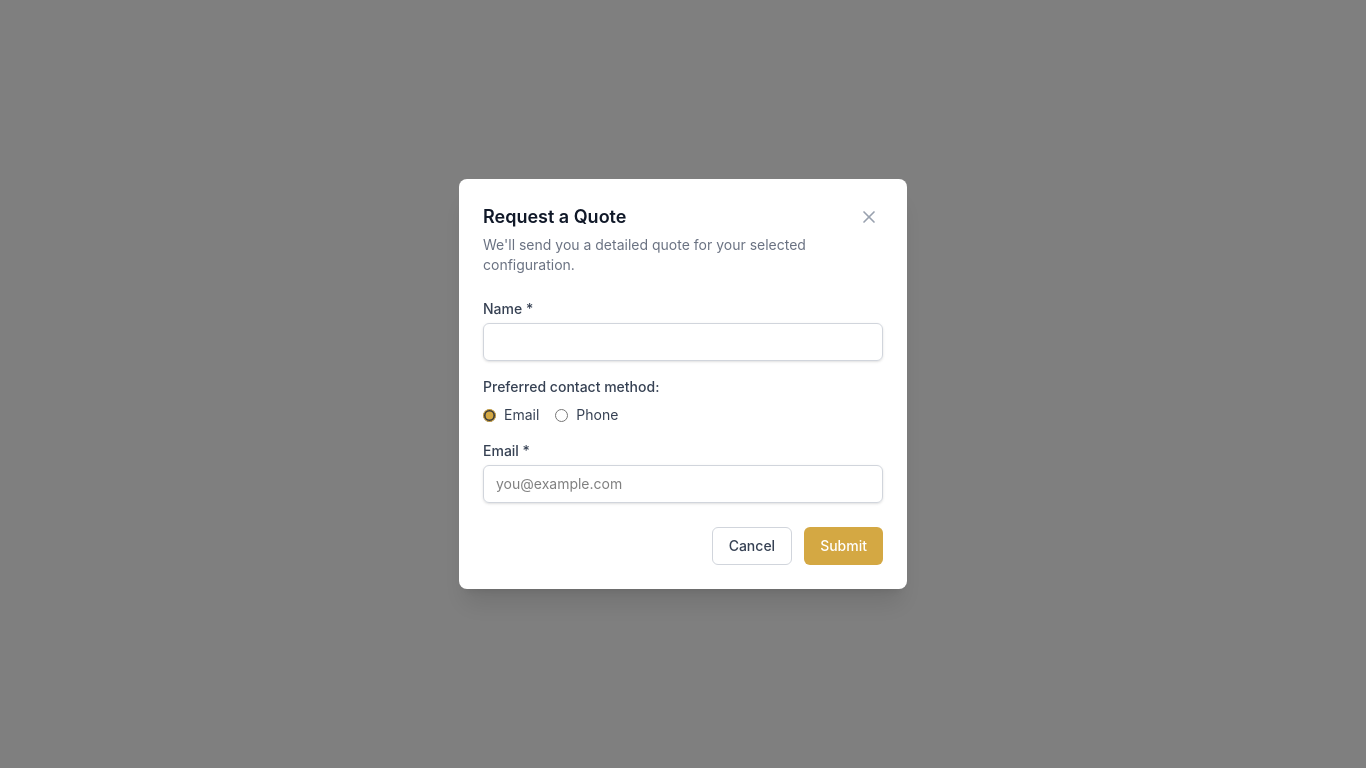
Test: ContactModal › shows validation errors for empty submit
Click the button "Submit".
click(844, 546)  # box x1=804 y1=527 x2=883 y2=565
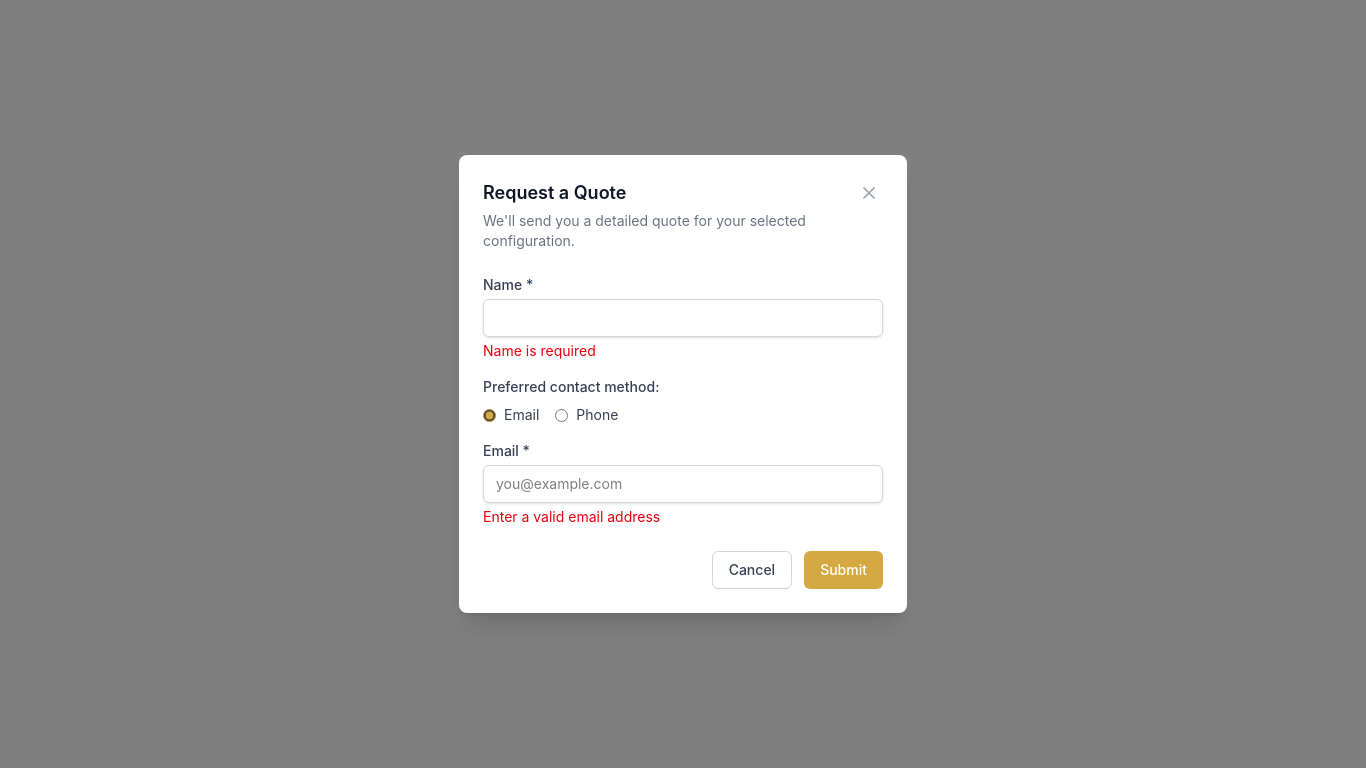
Now the text "Name is required" is shown, box x1=483 y1=342 x2=596 y2=359
Now the text "Enter a valid email address" is shown, box x1=483 y1=508 x2=660 y2=525
